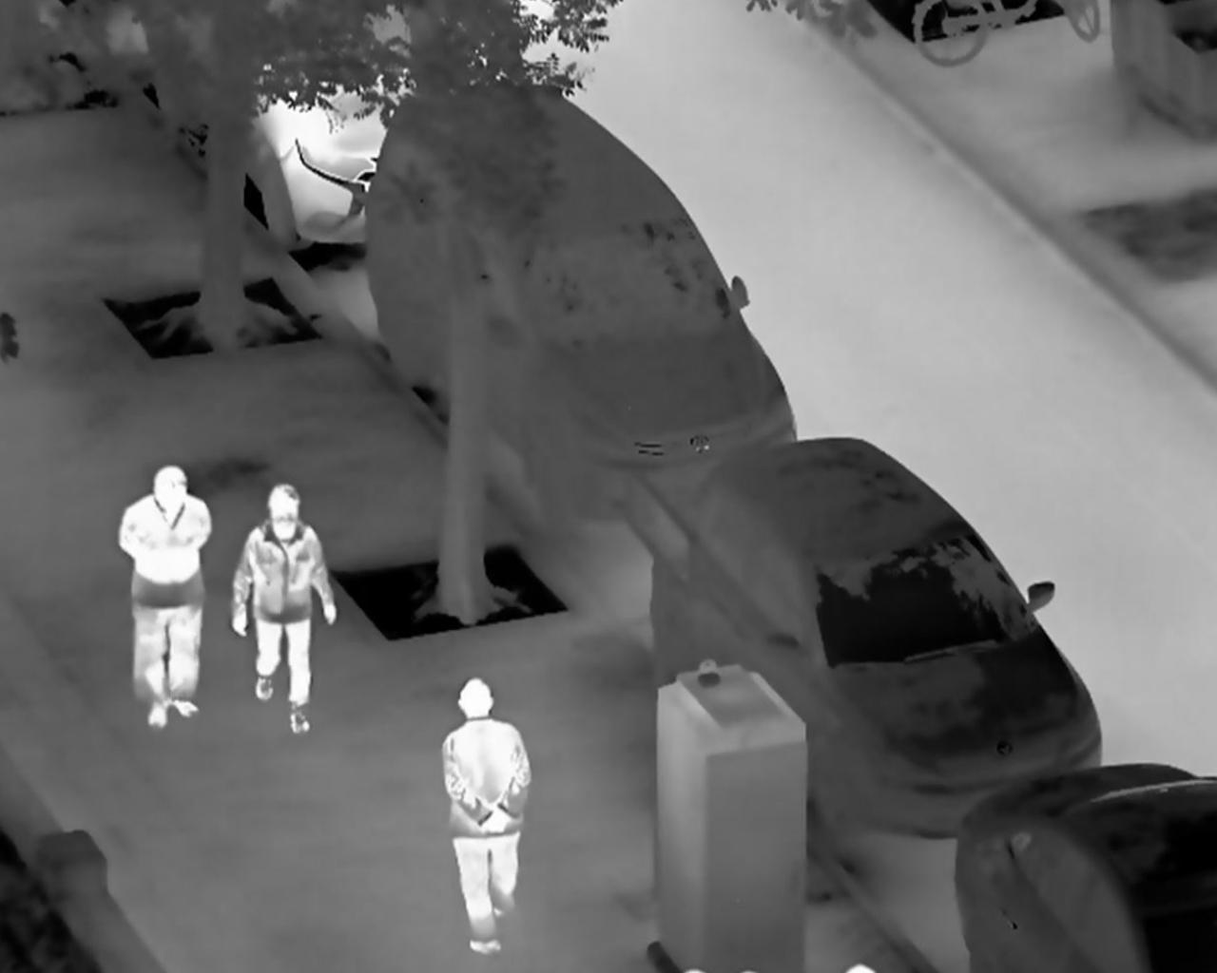person: (230, 481, 339, 735), (115, 463, 214, 730), (438, 680, 533, 955)
